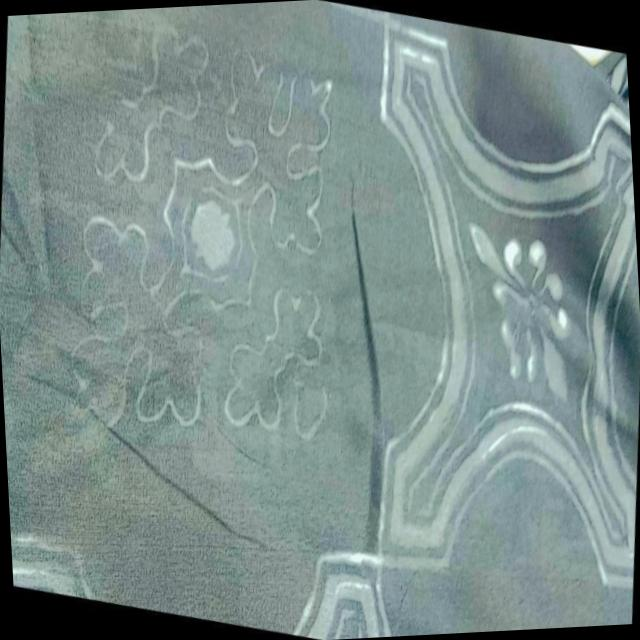baekra: (0, 0, 391, 640), (363, 141, 640, 637)
